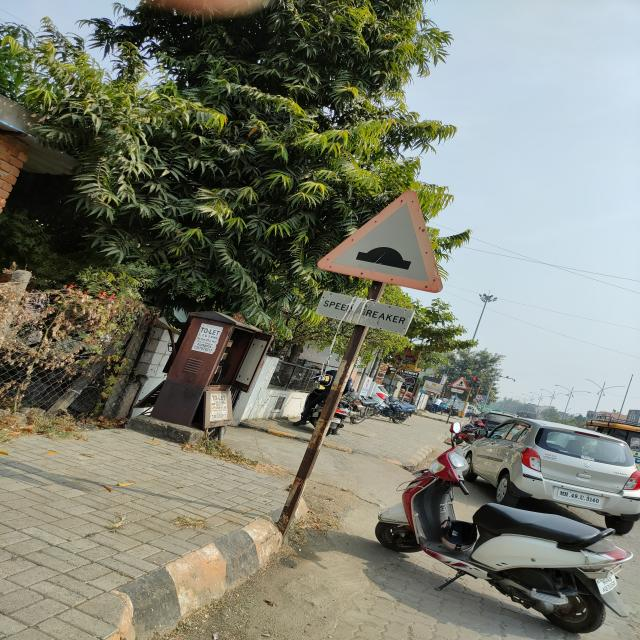HUMP_OR_ROUGH_ROAD: (317, 191, 443, 294)
